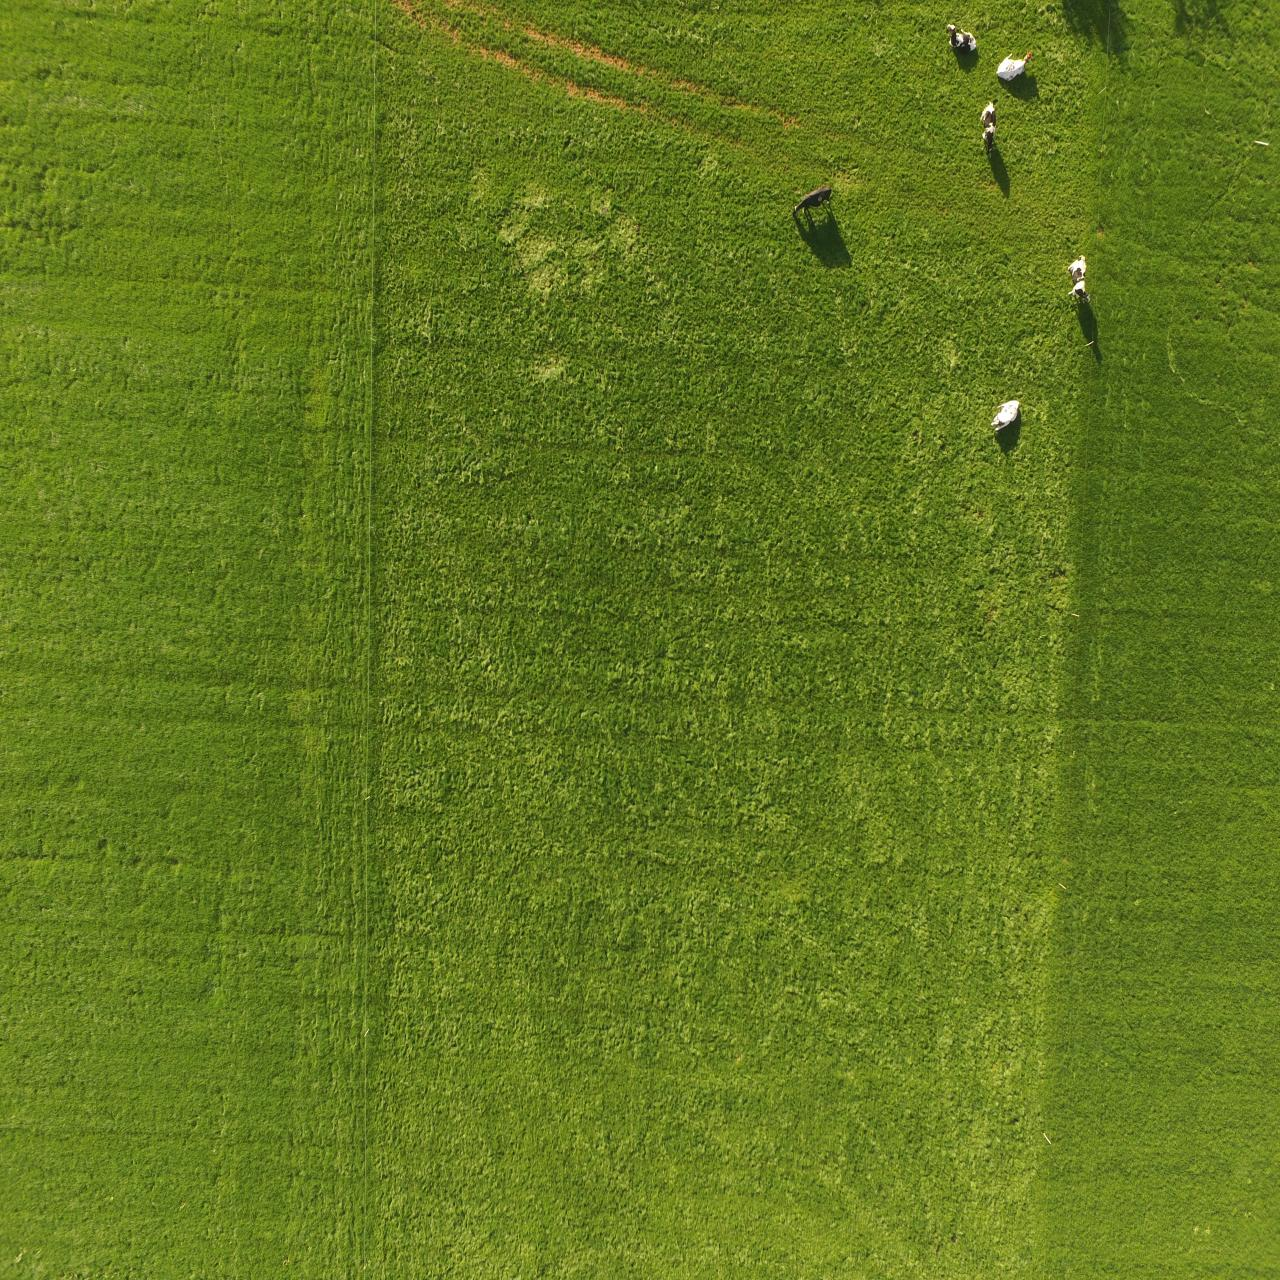cow: (790, 173, 840, 225), (945, 14, 982, 67), (1063, 246, 1095, 308), (986, 395, 1028, 441), (995, 42, 1035, 86), (976, 95, 1001, 158)
